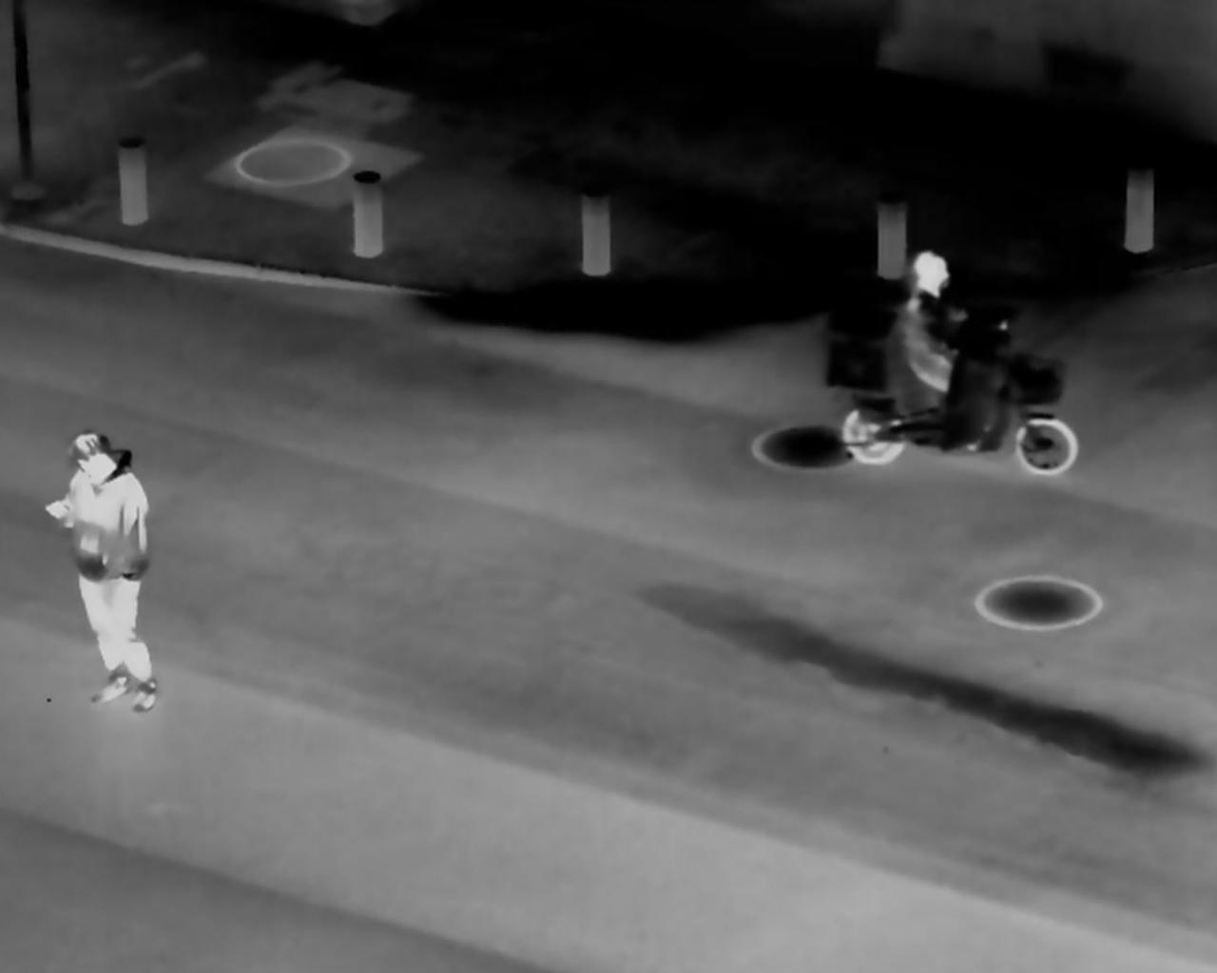person: (33, 424, 184, 723), (855, 238, 976, 440)
